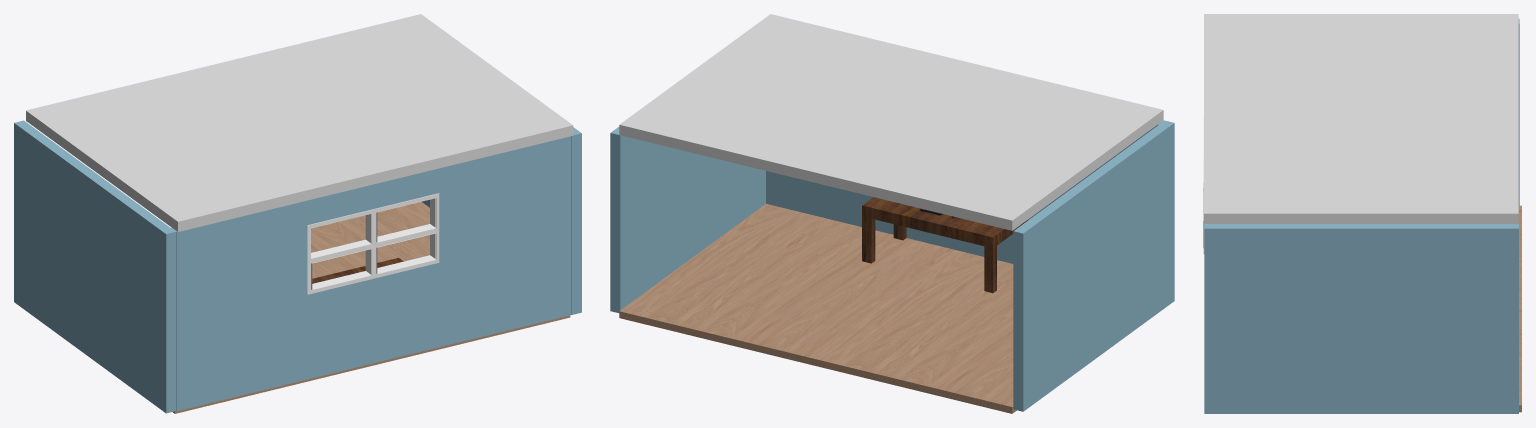
File: Room.glb
3 renders of one model, left to right at view 1: azimuth 30°, elevation 25°; view 2: azimuth 150°, elevation 25°; view 3: azimuth 270°, elevation 25°, orthographic. The views are drawn at different scales.
Parts seen in each view (by area): view 1: Cube, BackWall, RightWall, BottomFloor, Window, LeftWall; view 2: Cube, BottomFloor, RightWall, LeftWall, BackWall, Desk; view 3: Cube, LeftWall, BottomFloor, RightWall.
Boxes of the visible parts, box(x1,y1,x2,y2) form: Cube: box(26, 14, 573, 231); BackWall: box(171, 136, 571, 411); RightWall: box(14, 120, 175, 413); BottomFloor: box(173, 201, 570, 413); Window: box(307, 193, 439, 294); LeftWall: box(422, 127, 581, 314); Cube: box(619, 14, 1163, 230); BottomFloor: box(619, 203, 1016, 413); RightWall: box(1013, 120, 1174, 411); LeftWall: box(610, 127, 765, 312); BackWall: box(766, 120, 1164, 263); Desk: box(862, 197, 1027, 292); Cube: box(1204, 14, 1518, 223); LeftWall: box(1204, 224, 1518, 413); BottomFloor: box(1518, 205, 1521, 412); RightWall: box(1518, 18, 1519, 205).
Size of the model in its own units: 6.31 by 2.8 by 4.05.
10 materials, 4 textured.
